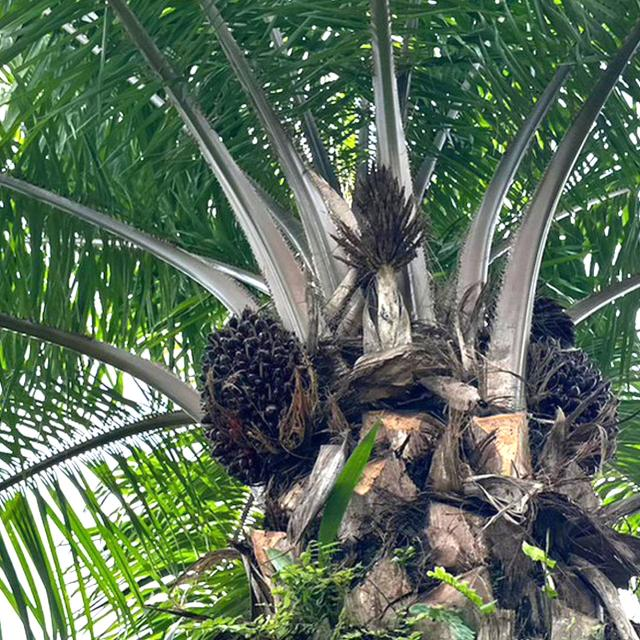almost: (192, 297, 335, 495), (518, 328, 630, 484)
